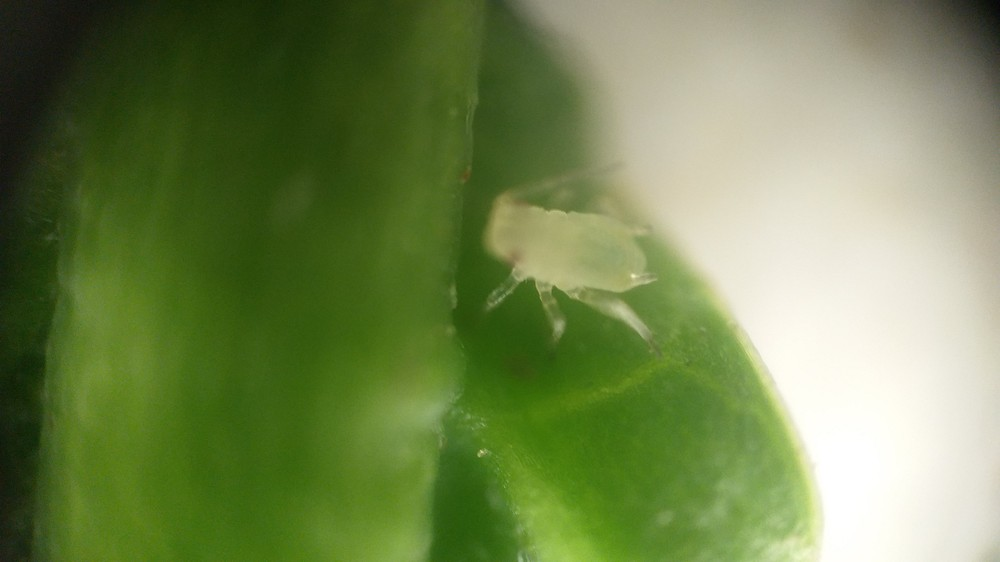Pulgon: (455, 141, 743, 362)
